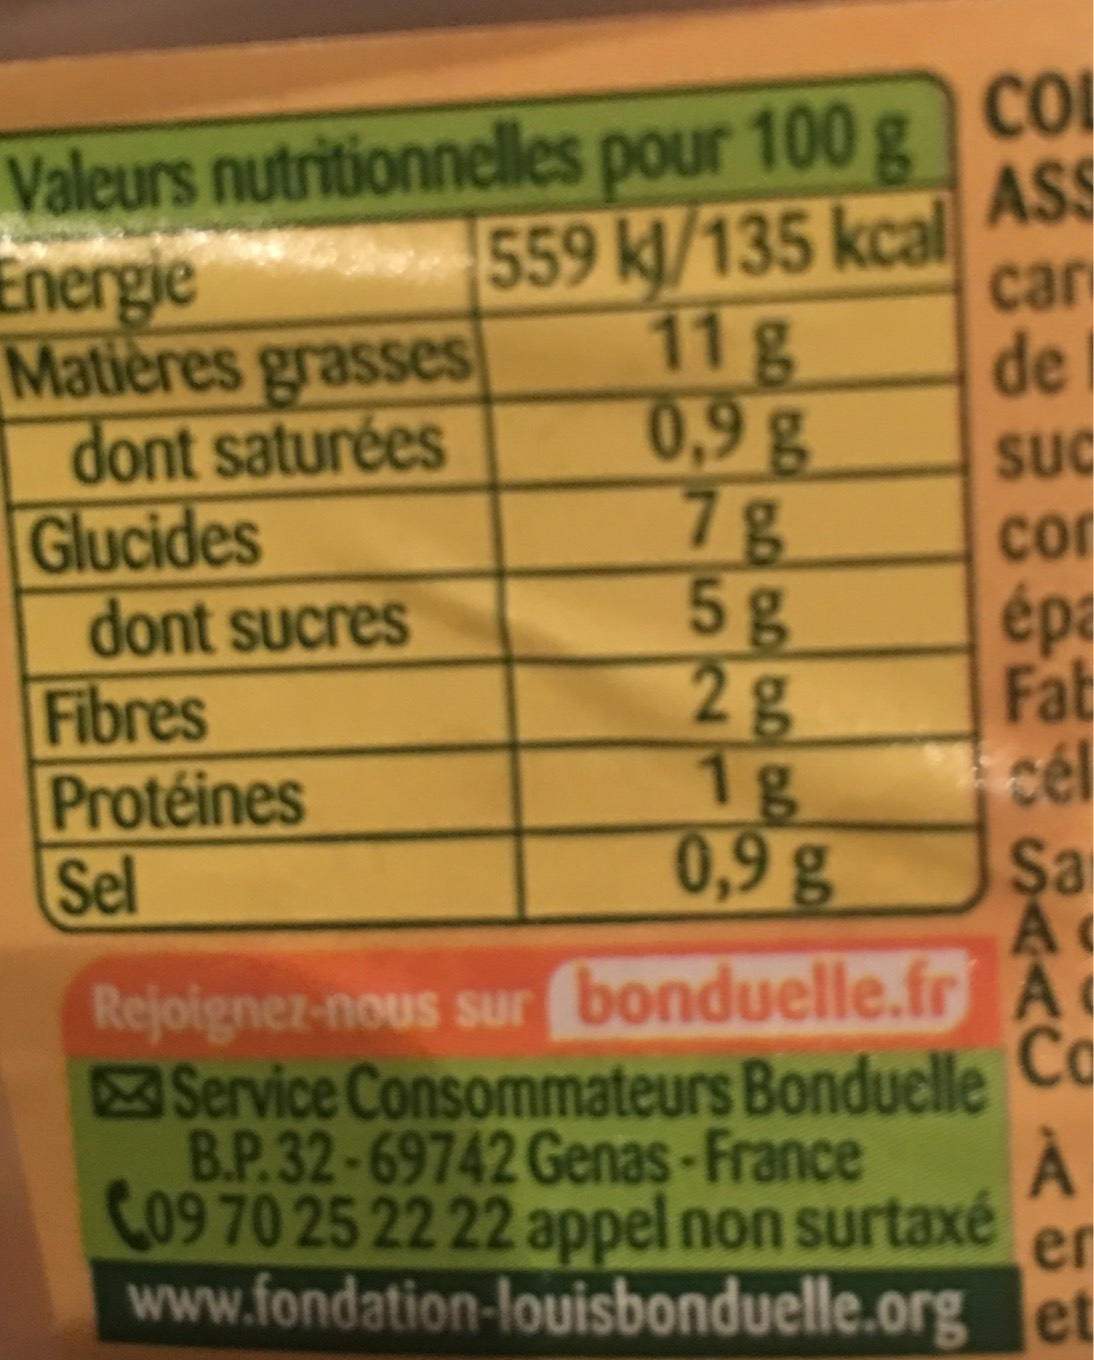column: (491, 216, 949, 907), (4, 250, 470, 914)
table: (4, 76, 989, 918)
